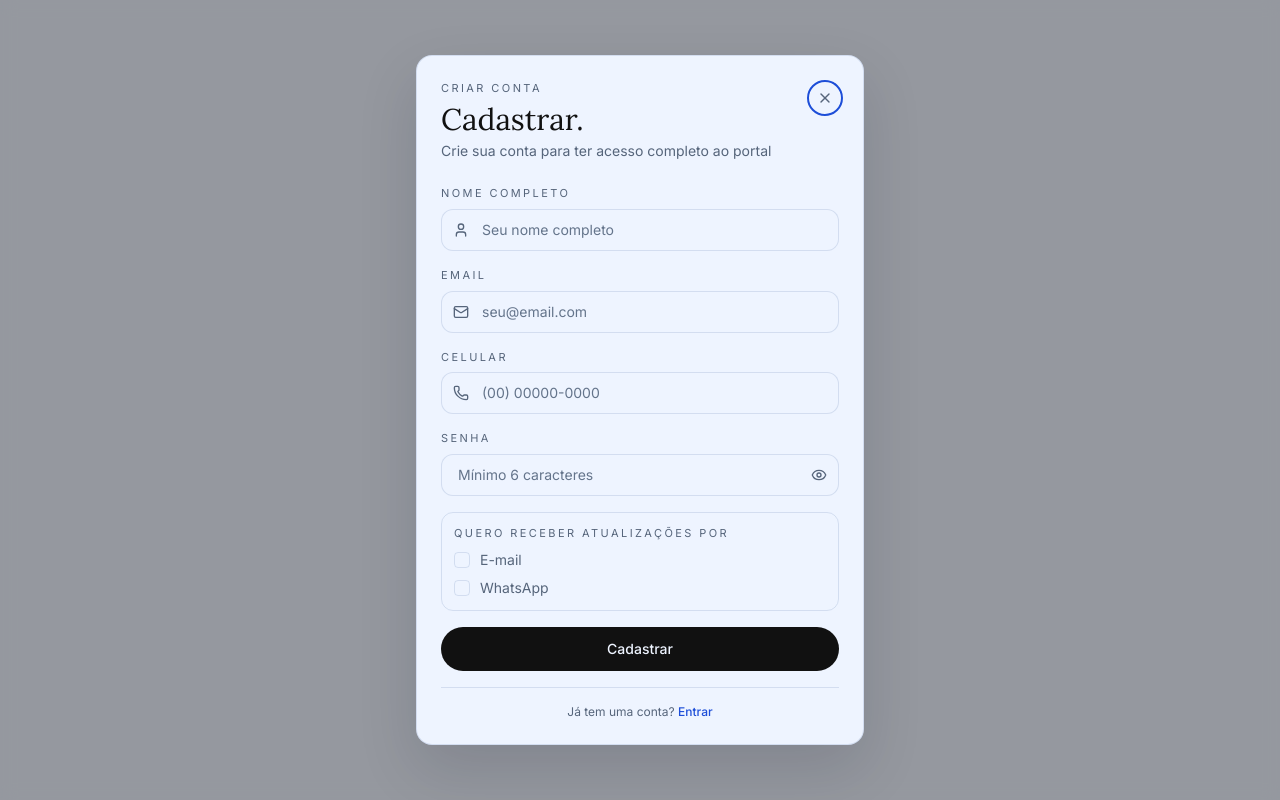
it: AuthModal › signup sem consentimento bloqueia submit e exibe erro de validação
Type "Test User" into the field labelled "Nome Completo".
click(640, 230); type("Test User")  # box [441,209,839,251]
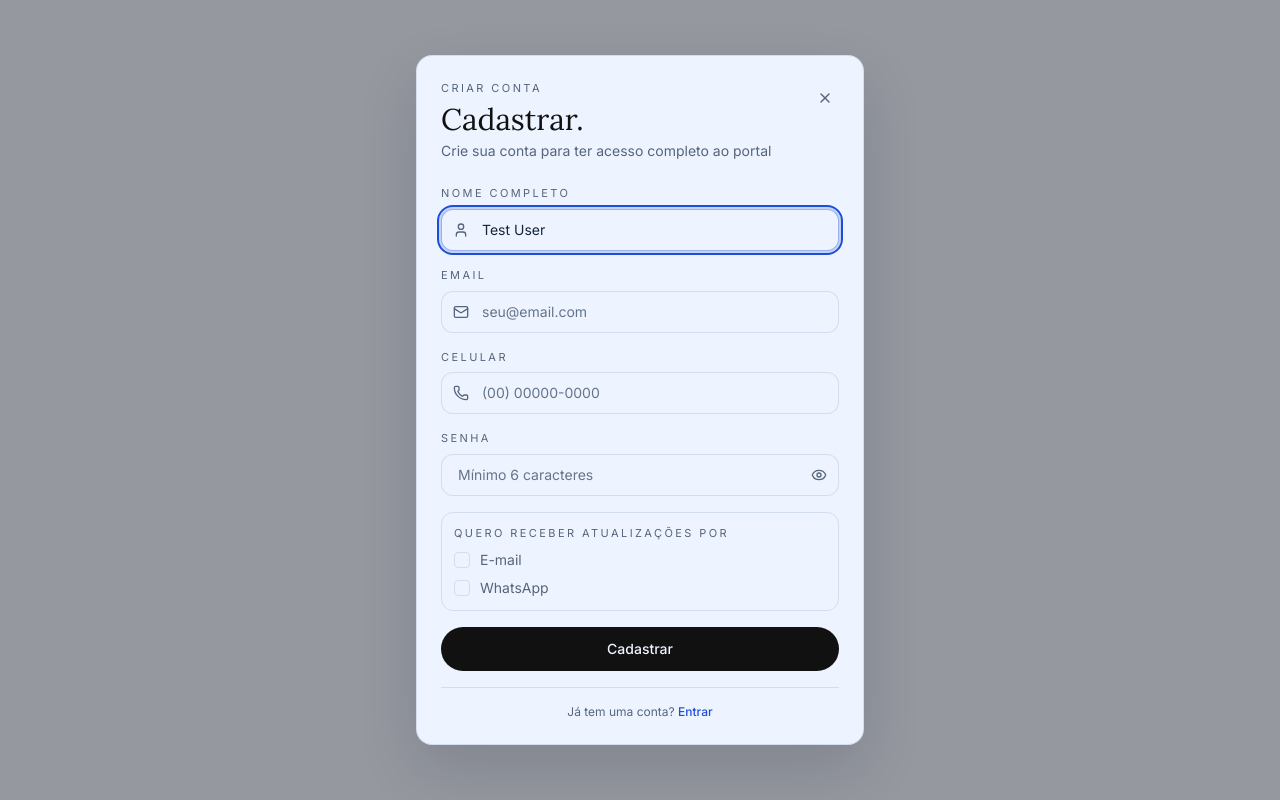
Type "test@example.com" into the field labelled "Email".
click(640, 312); type("test@example.com")  # box [441,290,839,332]
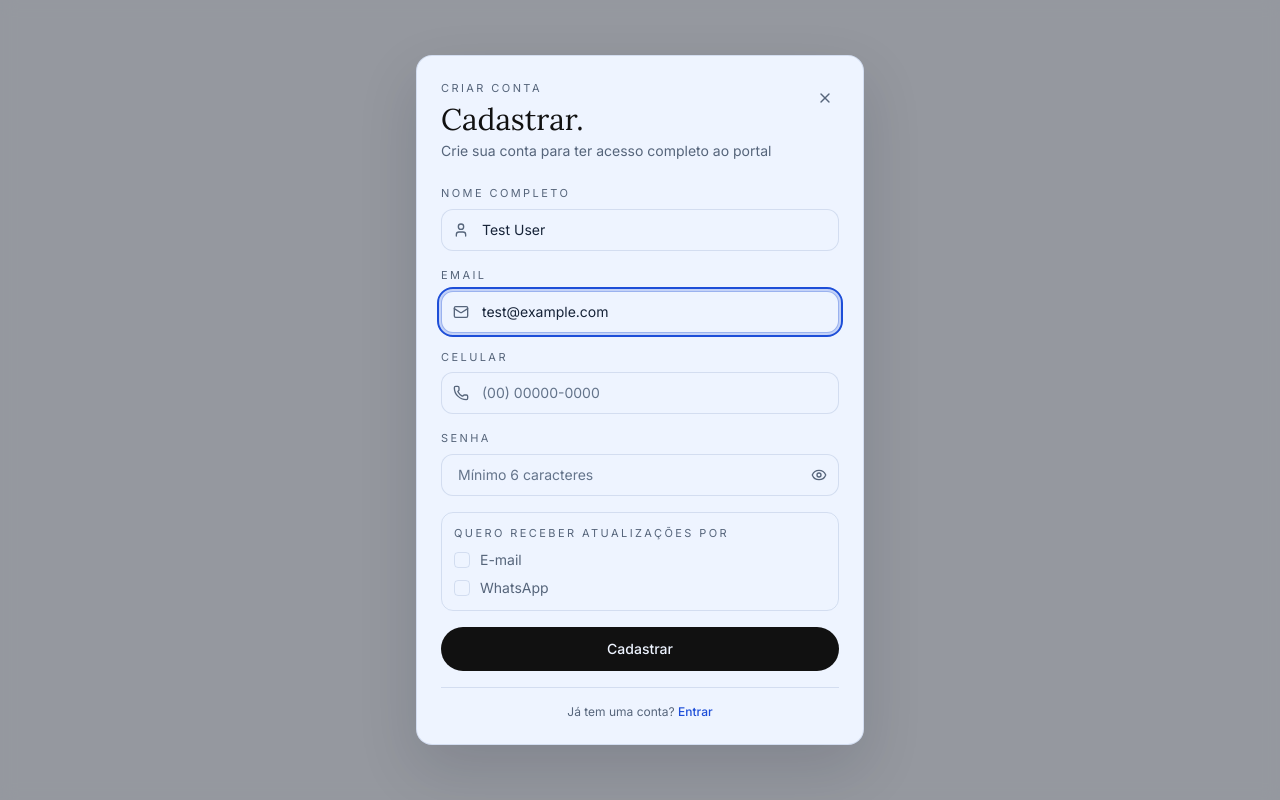
Type "11999999999" into the field labelled "Celular".
click(640, 393); type("11999999999")  # box [441,372,839,414]
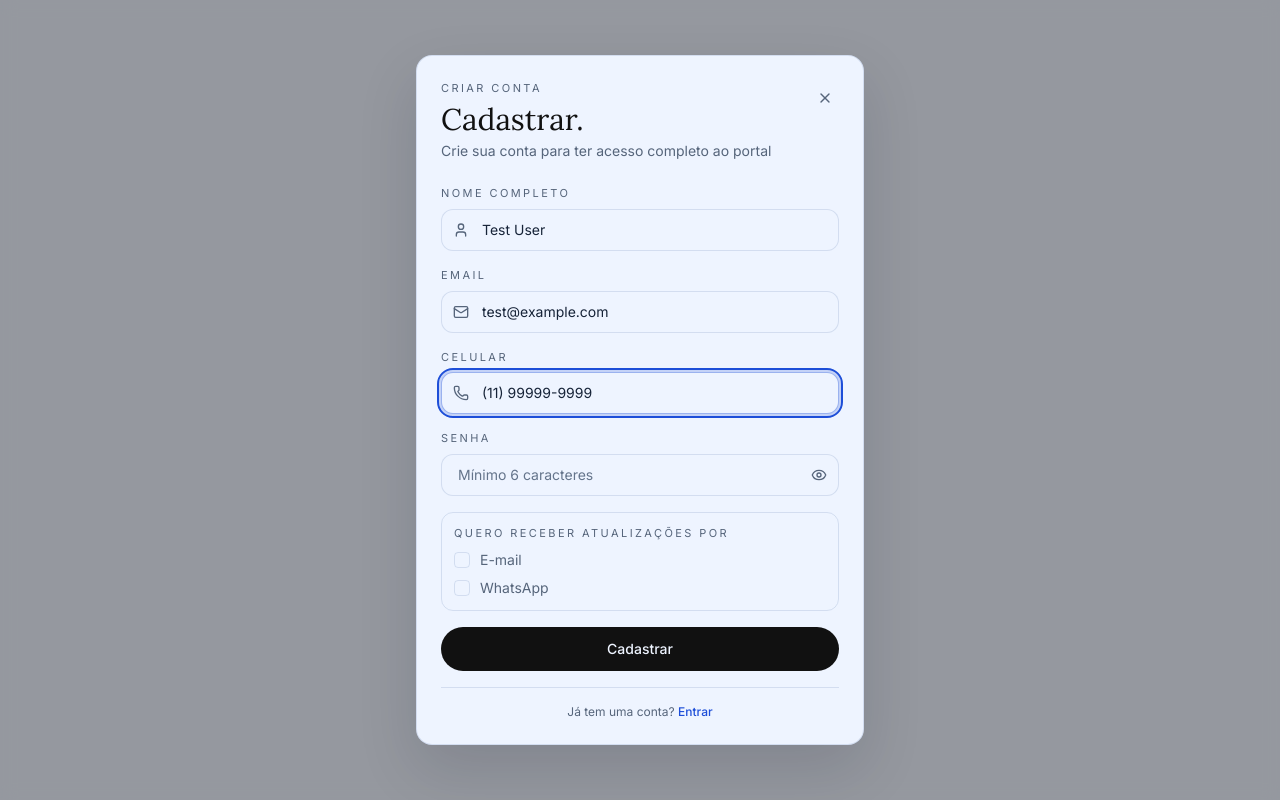
Type "123456" into the password field labelled "Senha".
click(640, 475); type("123456")  # box [441,454,839,496]
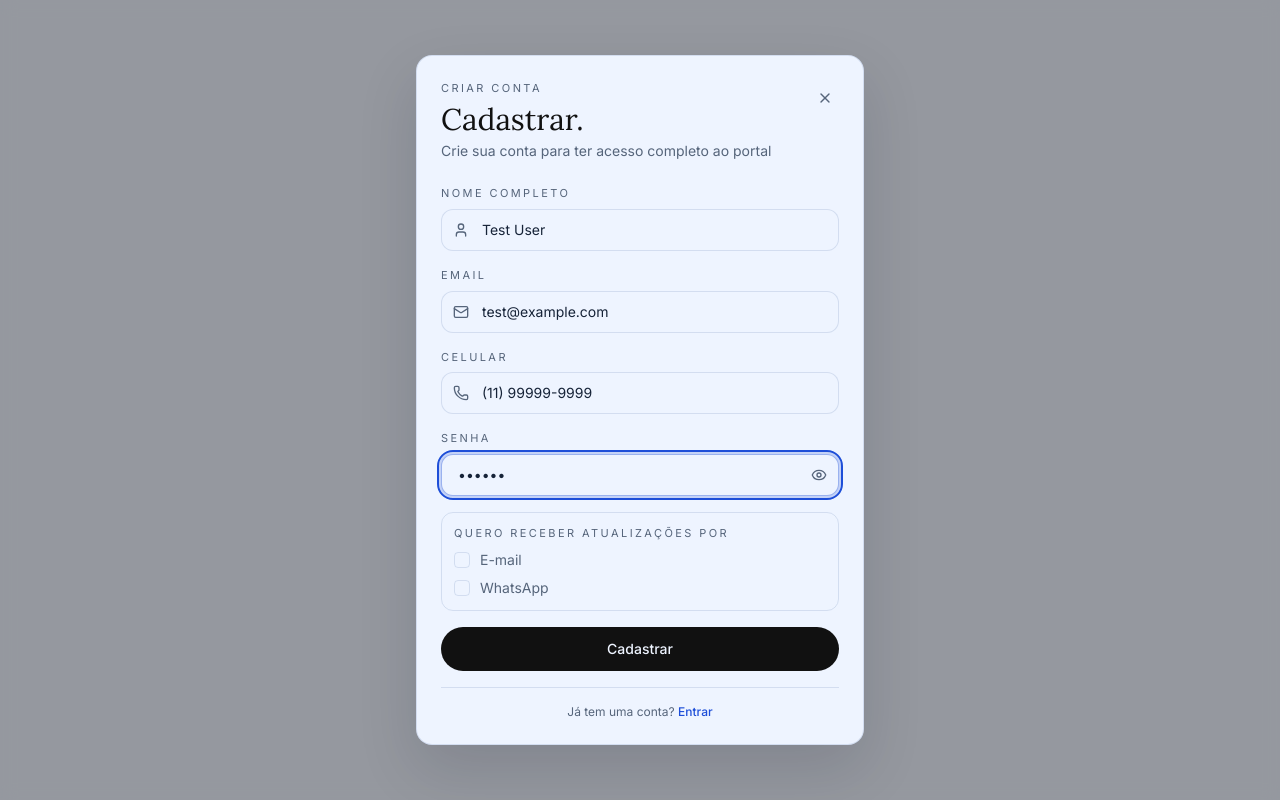
Click the button "Cadastrar".
click(640, 649)  # box [441,627,839,671]
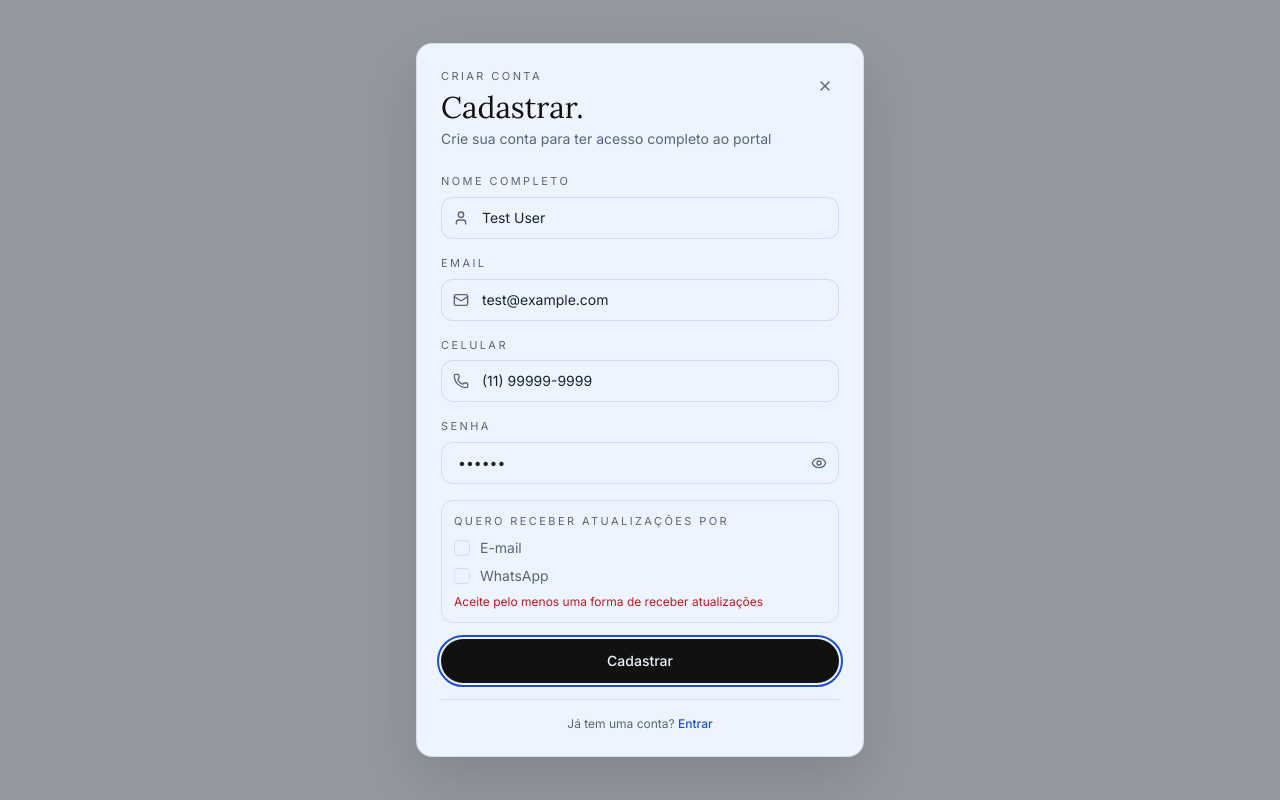
Expected: the text "Aceite pelo menos uma forma de receber atualizações" is shown, [454,594,763,609]
